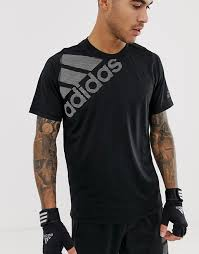adidas: (59, 51, 122, 118)
